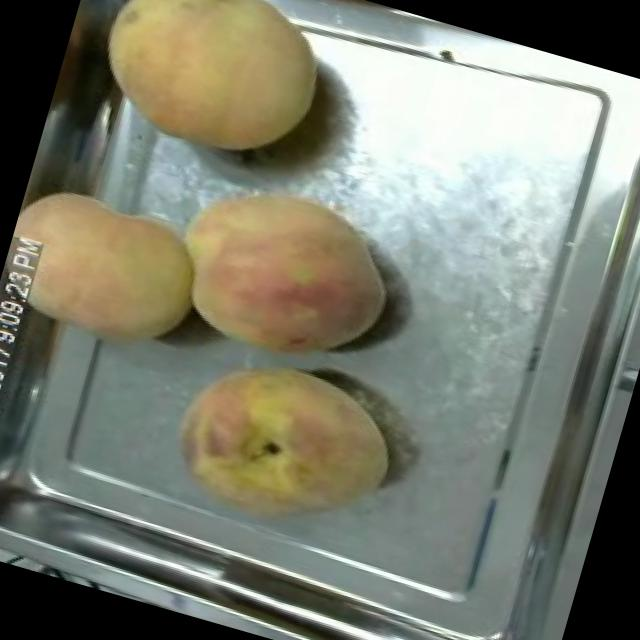Fruit: (148, 152, 420, 388), (150, 331, 416, 562), (61, 0, 353, 191), (0, 164, 222, 370)
